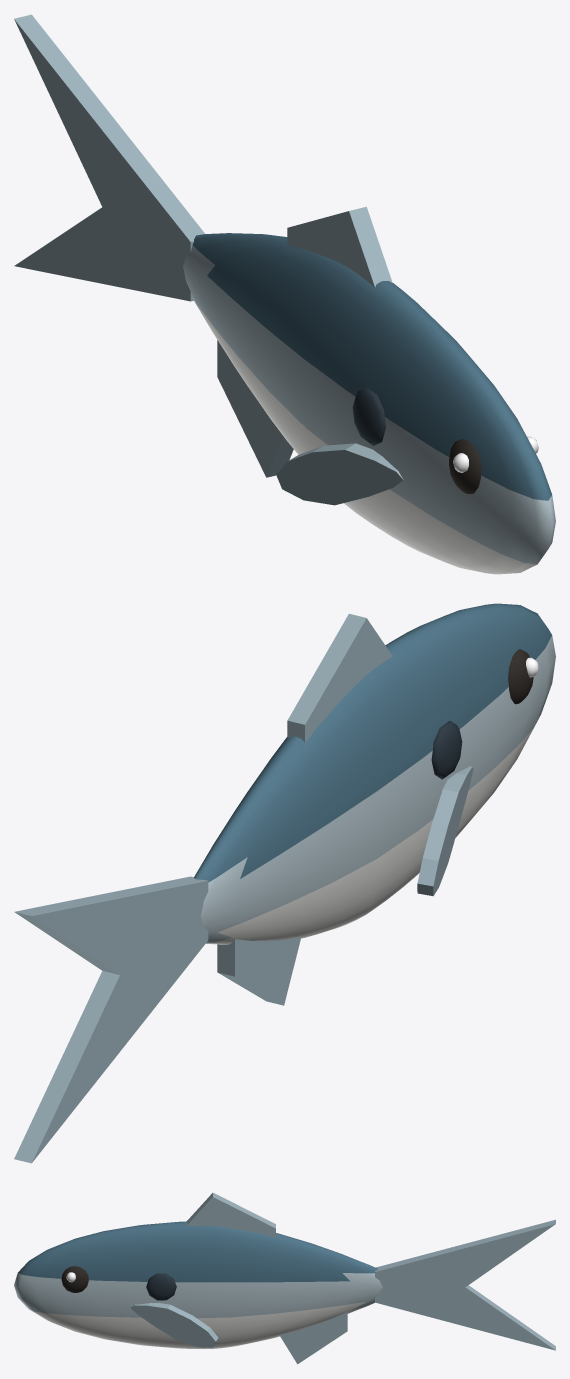
Rendered from sea-gizzard-shad.glb.
3 renders of one model, top to bottom at view 1: azimuth 30°, elevation 25°; view 2: azimuth 150°, elevation 25°; view 3: azimuth 270°, elevation 25°, orthographic. The views are drawn at different scales.
Parts seen in each view (by area): view 1: fish; view 2: fish; view 3: fish.
Part boxes in pixels (box(x1,y1,x2,y2)): fish: box(14, 14, 555, 574); fish: box(14, 603, 555, 1163); fish: box(14, 1192, 555, 1364).
Size of the model in its own units: 0.0532 by 0.1058 by 0.31.
